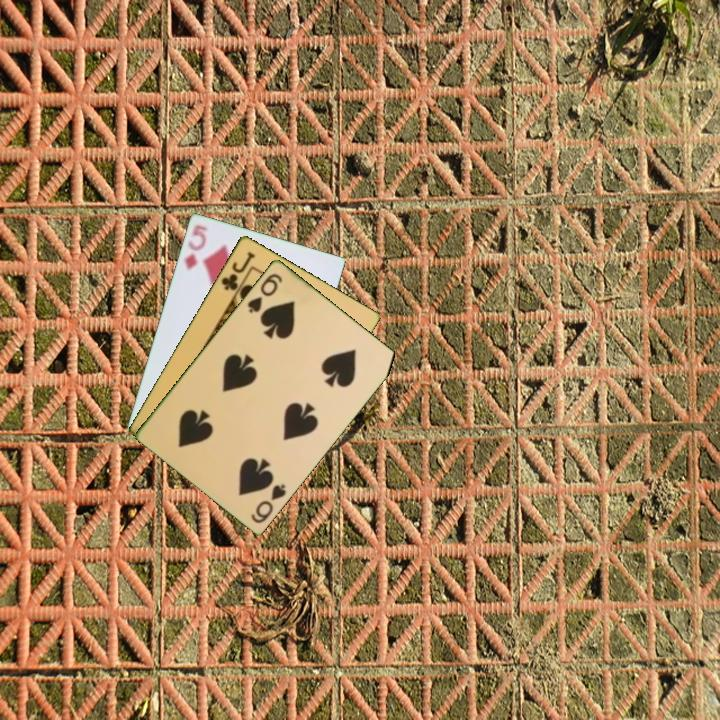5d: (180, 221, 210, 273)
6s: (247, 479, 289, 526), (244, 269, 285, 316)
Jc: (217, 248, 258, 293)
